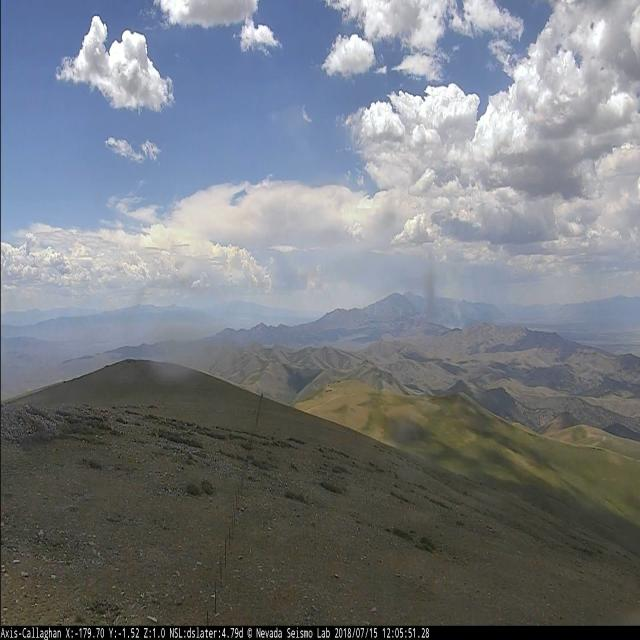smoke: (443, 301, 468, 327)
